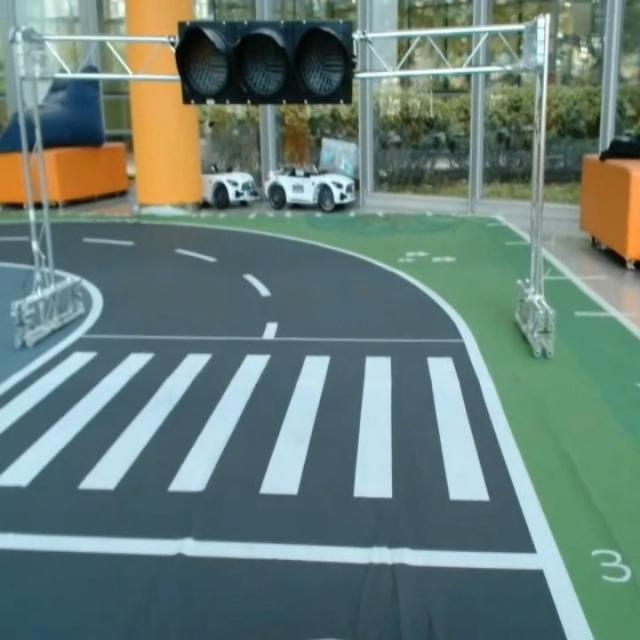traffic-light: (169, 17, 358, 104)
